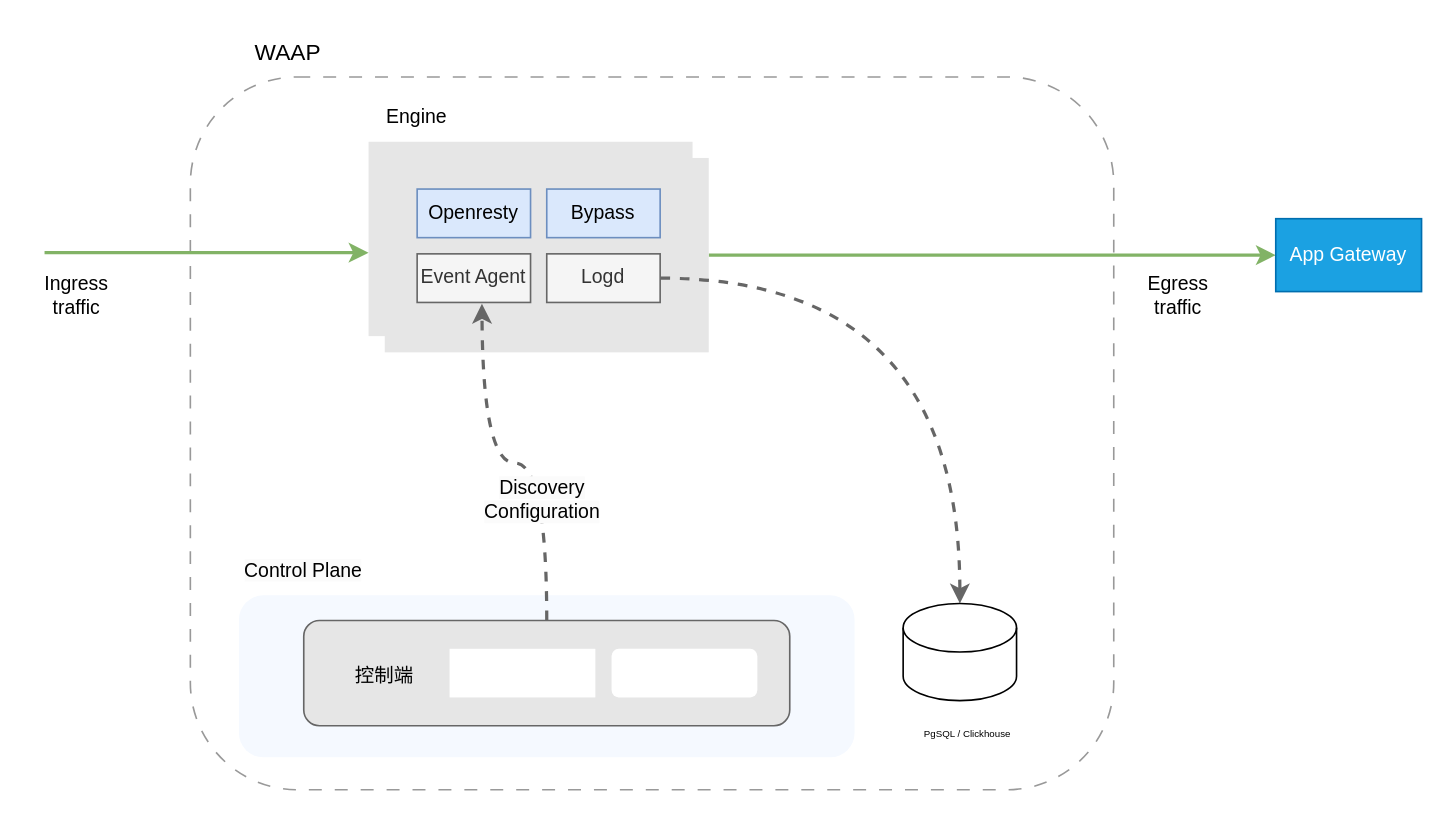
Some shapes in this 1450 by 818 pixel diagram are drawn without their labels. The shapes that lost their labels are listed below. From the top down, each one's box as (x1, y1, x2, y2) in pixels, then its label:
(902, 602, 1017, 701): Log Store
(449, 648, 595, 697): Control Server
(611, 648, 757, 697): Uprade
